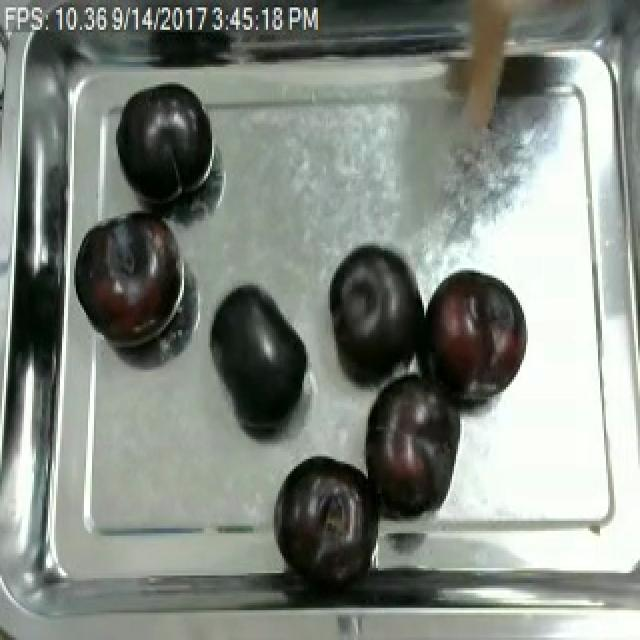Fruit: (200, 275, 316, 432), (70, 206, 190, 355), (358, 367, 464, 524), (420, 263, 532, 409), (322, 238, 426, 385), (112, 77, 218, 213), (276, 451, 370, 573)
